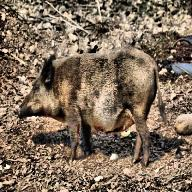boar: (3, 46, 170, 164)
